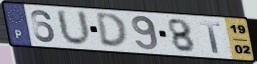6: (30, 9, 57, 44)
8: (167, 17, 197, 54)
9: (130, 15, 160, 52)
D: (94, 12, 130, 50)
T: (198, 21, 223, 55)
U: (54, 8, 94, 48)
